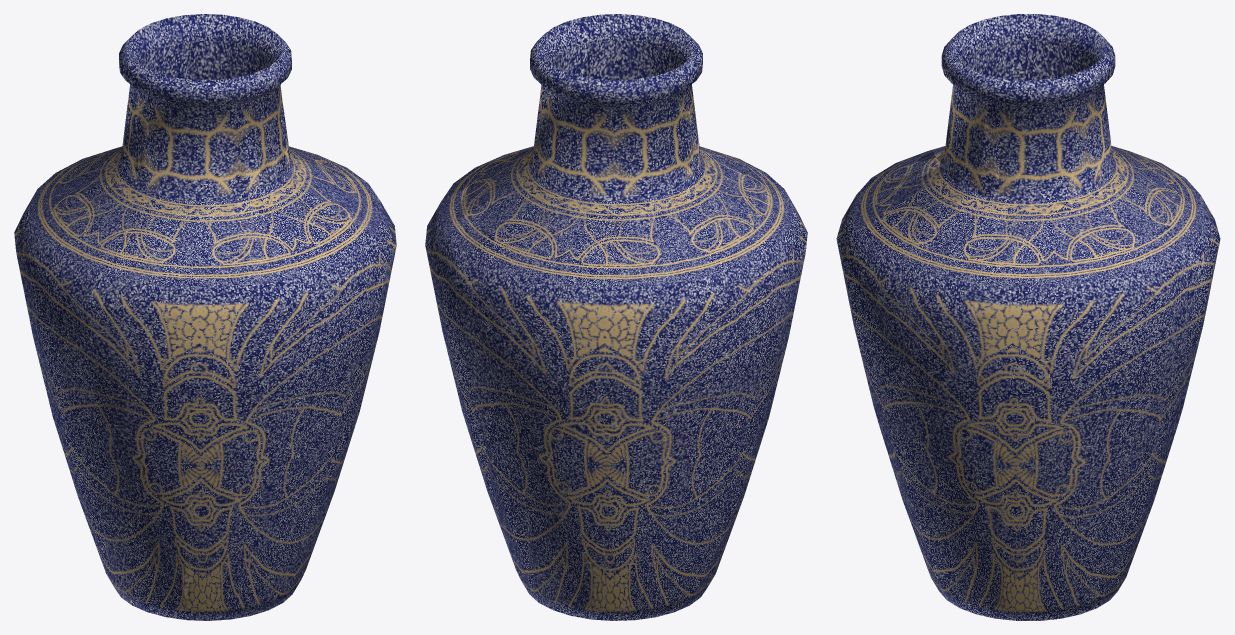
File: vase.002.fbx
3 renders of one model, left to right at view 1: azimuth 30°, elevation 25°; view 2: azimuth 150°, elevation 25°; view 3: azimuth 270°, elevation 25°, orthographic.
Visible parts, largest first — view 1: vase.002_cell.001, vase.002, vase.002_cell.002, vase.002_cell, vase.002_cell.007, vase.002_cell.005, vase.002_cell.004, vase.002_cell.006; view 2: vase.002, vase.002_cell, vase.002_cell.007, vase.002_cell.003, vase.002_cell.006, vase.002_cell.002, vase.002_cell.004, vase.002_cell.001; view 3: vase.002, vase.002_cell.003, vase.002_cell.001, vase.002_cell.005, vase.002_cell, vase.002_cell.004, vase.002_cell.002, vase.002_cell.006, vase.002_cell.007.
Boxes of the visible parts, left/top/right/bottom form: vase.002_cell.001: left=89, top=167, right=396, bottom=481; vase.002: left=14, top=16, right=396, bottom=620; vase.002_cell.002: left=91, top=53, right=291, bottom=290; vase.002_cell: left=14, top=73, right=344, bottom=414; vase.002_cell.007: left=56, top=393, right=186, bottom=619; vase.002_cell.005: left=177, top=396, right=362, bottom=620; vase.002_cell.004: left=180, top=14, right=291, bottom=80; vase.002_cell.006: left=119, top=16, right=190, bottom=174; vase.002: left=425, top=20, right=807, bottom=617; vase.002_cell: left=451, top=121, right=804, bottom=429; vase.002_cell.007: left=493, top=380, right=777, bottom=620; vase.002_cell.003: left=426, top=186, right=604, bottom=466; vase.002_cell.006: left=557, top=59, right=697, bottom=173; vase.002_cell.002: left=583, top=14, right=799, bottom=236; vase.002_cell.004: left=530, top=16, right=590, bottom=131; vase.002_cell.001: left=487, top=146, right=807, bottom=378; vase.002: left=836, top=14, right=1220, bottom=619; vase.002_cell.003: left=925, top=259, right=1202, bottom=495; vase.002_cell.001: left=836, top=150, right=1003, bottom=435; vase.002_cell.005: left=895, top=439, right=1132, bottom=620; vase.002_cell: left=985, top=109, right=1220, bottom=288; vase.002_cell.004: left=973, top=53, right=1112, bottom=190; vase.002_cell.002: left=933, top=14, right=1019, bottom=197; vase.002_cell.006: left=1015, top=14, right=1115, bottom=108; vase.002_cell.007: left=1110, top=405, right=1183, bottom=599.
Bounding box in the file's own units: 0.6715 × 1.04 × 0.6764.
